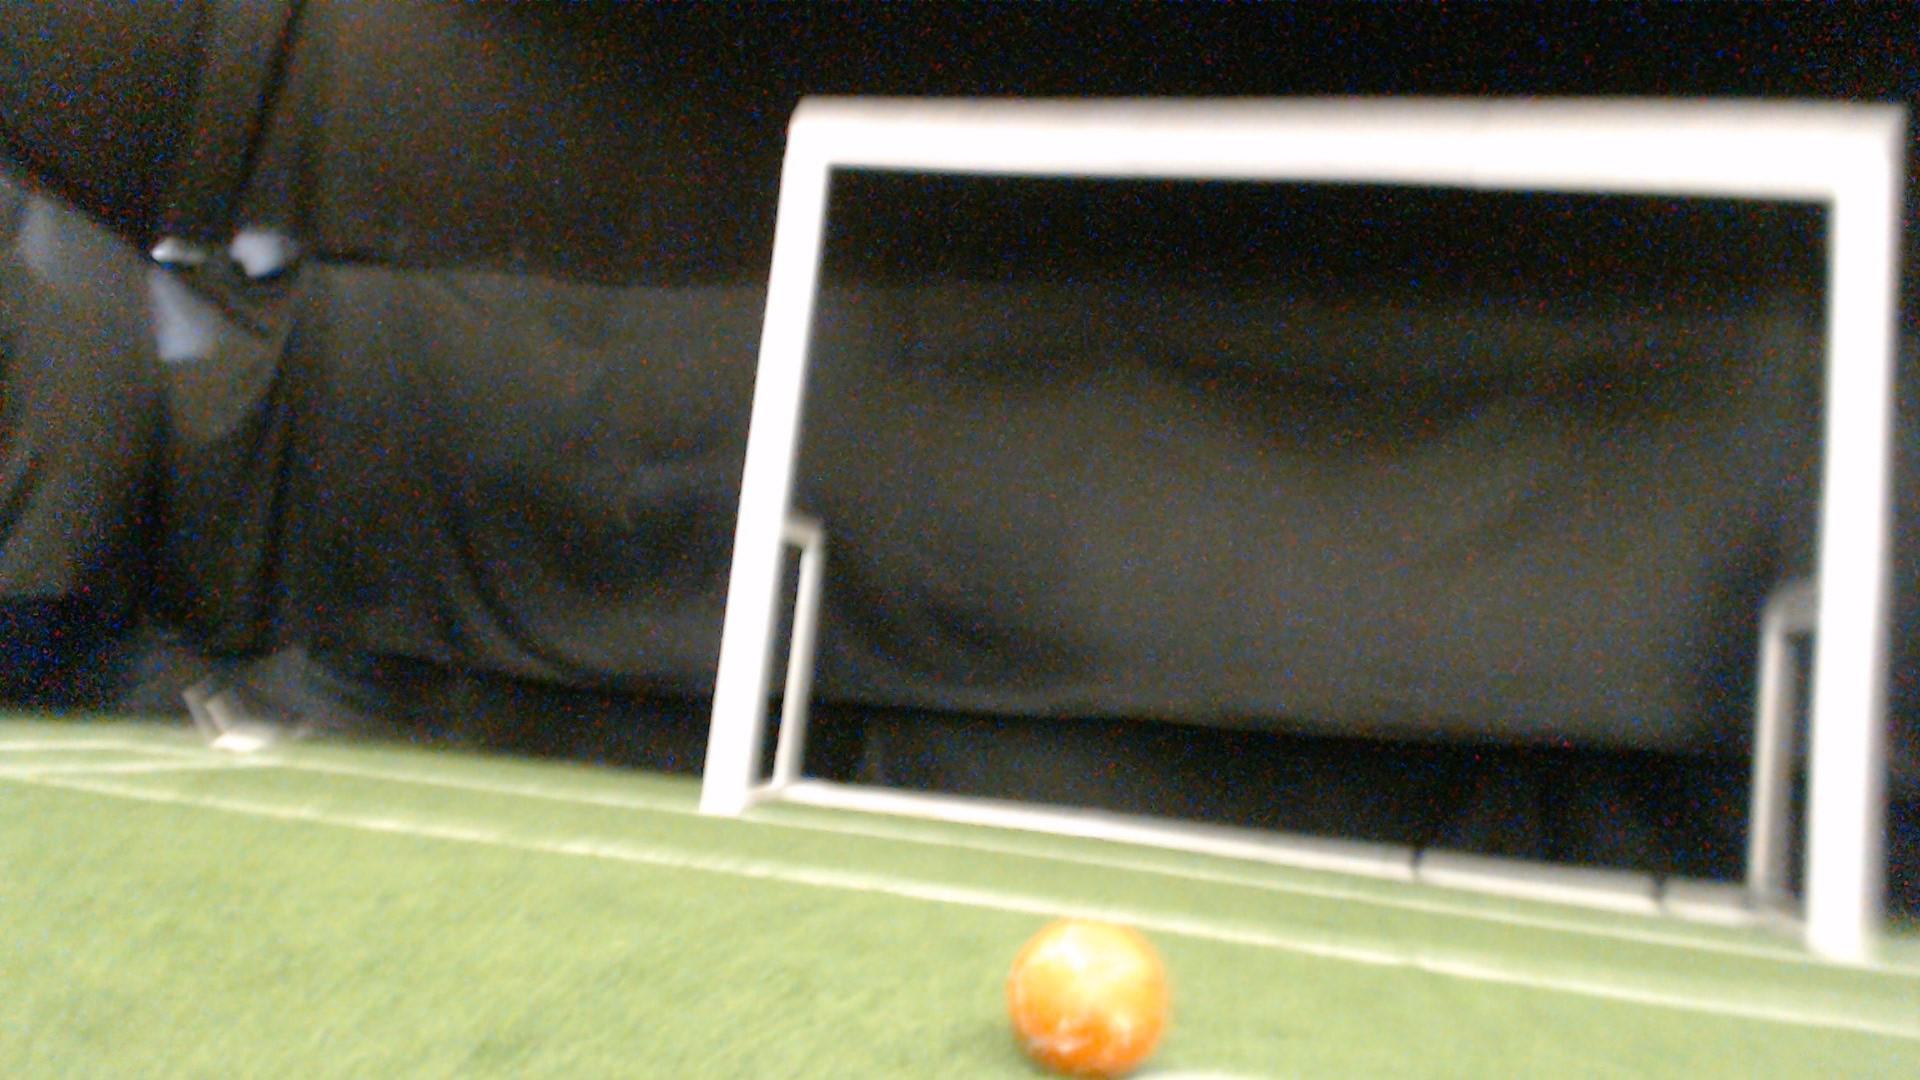bola: (985, 899, 1200, 1080)
